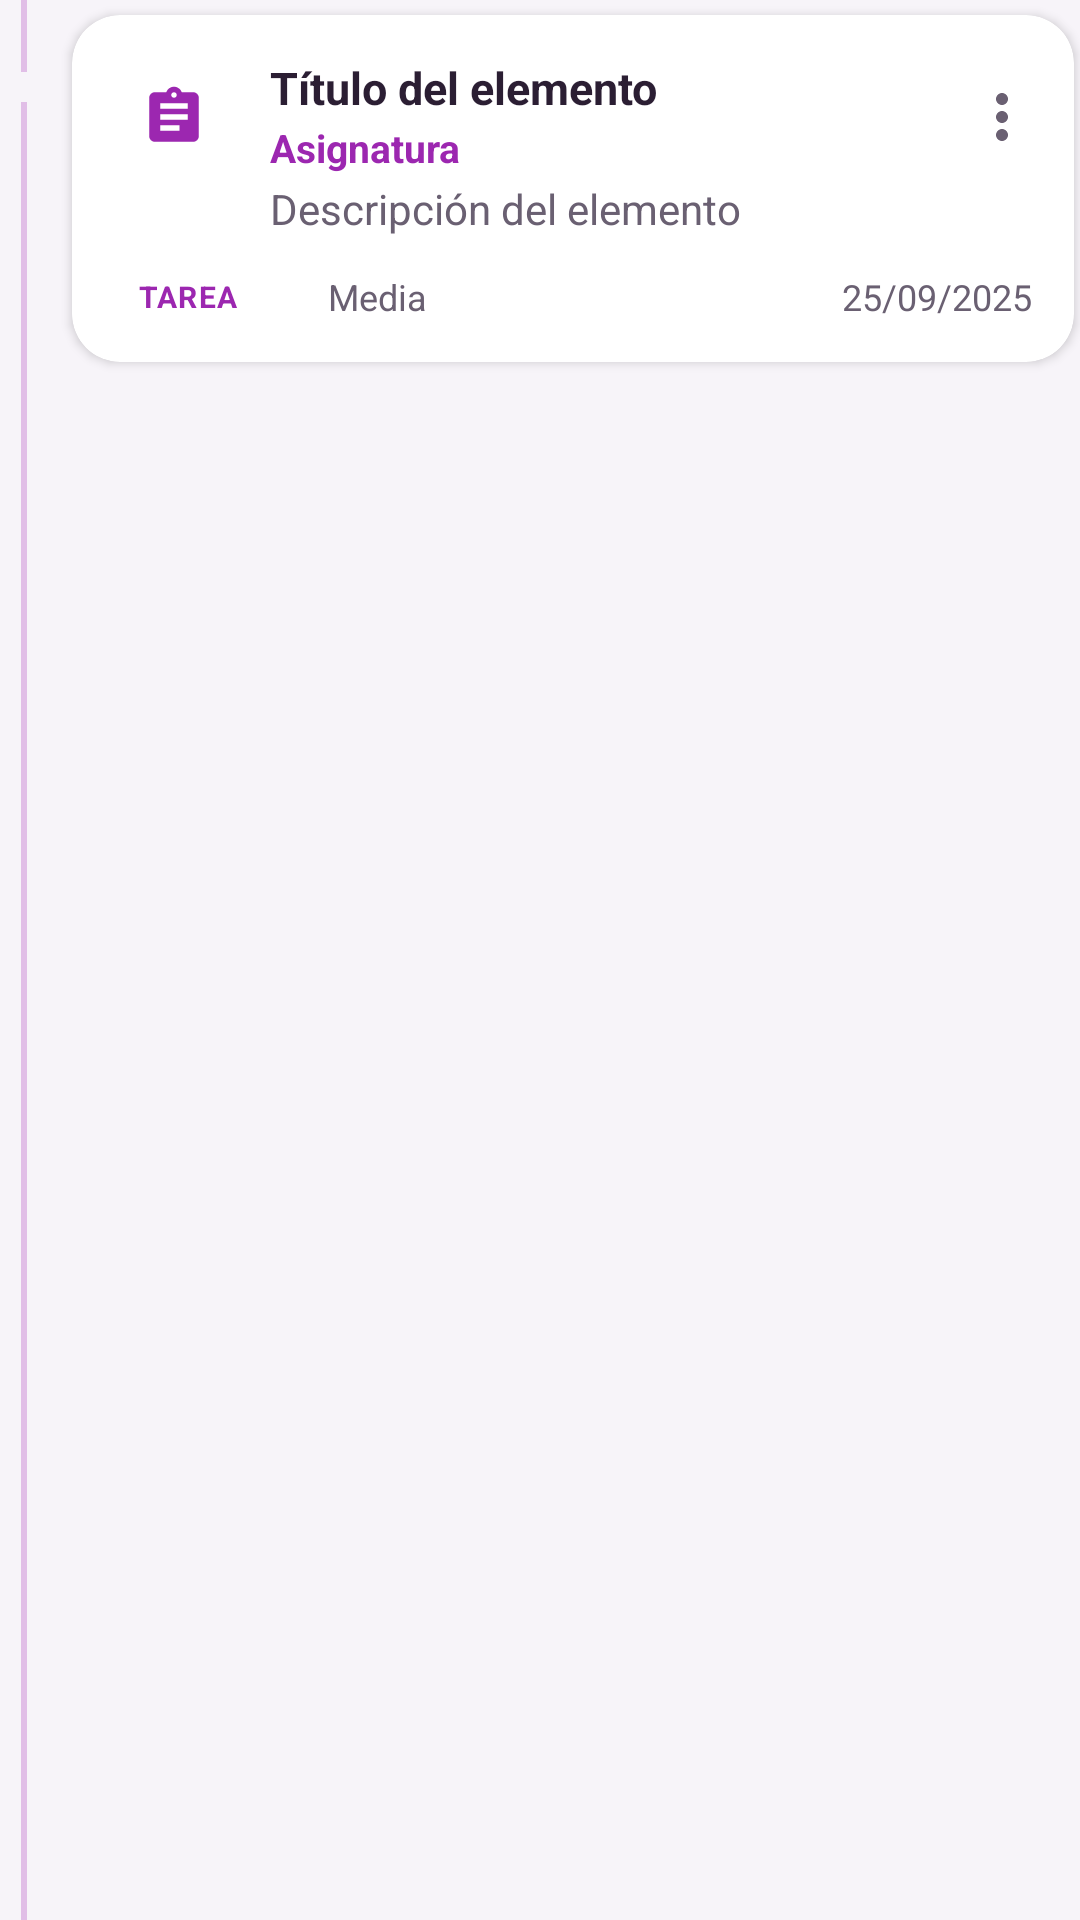

Icons on this 1080 × 1920 Android screen, each with its box as box=[x1, y1, x2, y2]:
Opciones: box=[996, 93, 1008, 141]
